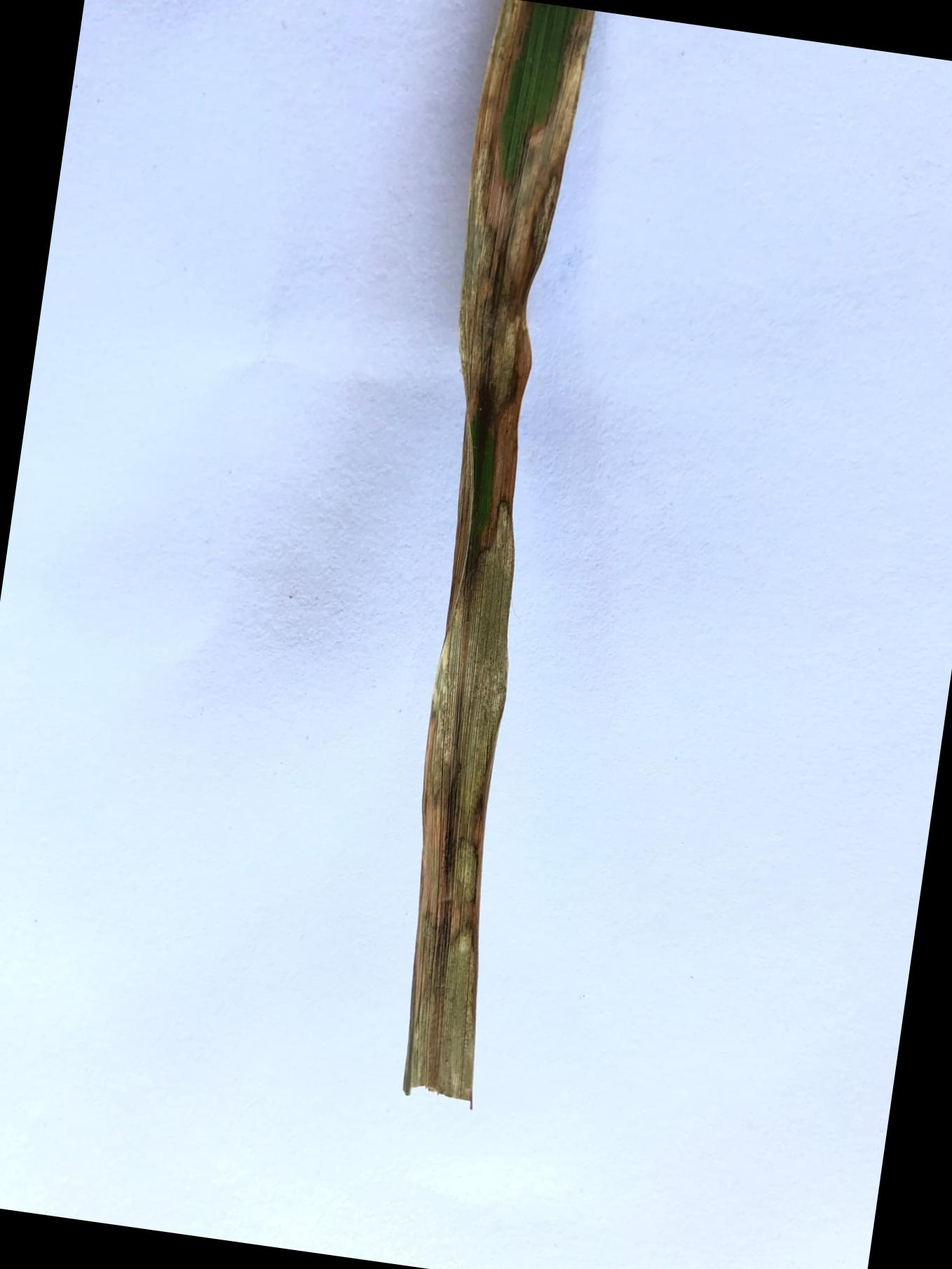Leaf Blight: (403, 0, 595, 1100)
